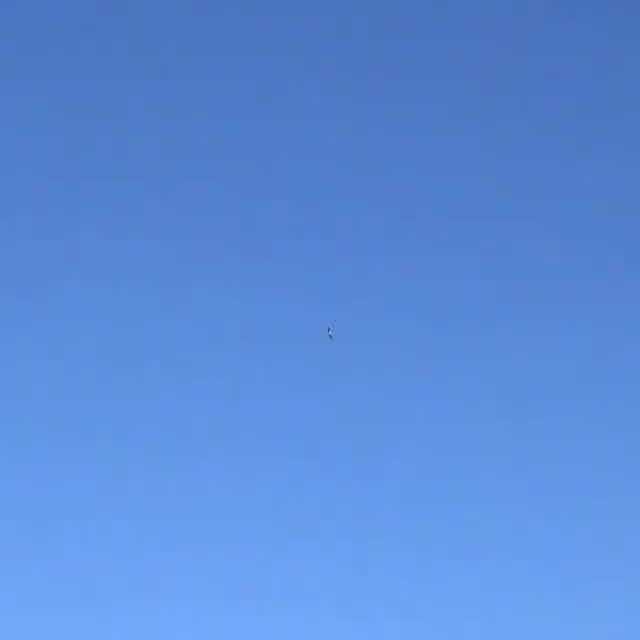bird: (318, 324, 333, 350)
